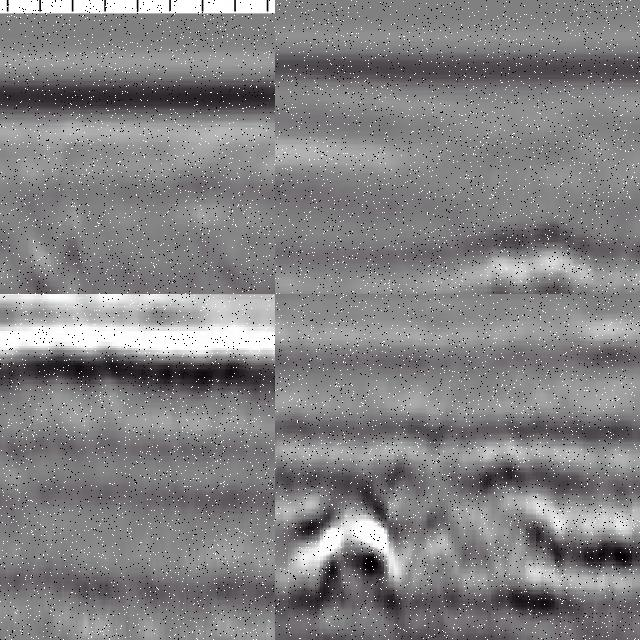crack: (55, 143, 86, 295)
loose: (291, 445, 617, 625), (467, 221, 609, 295)
